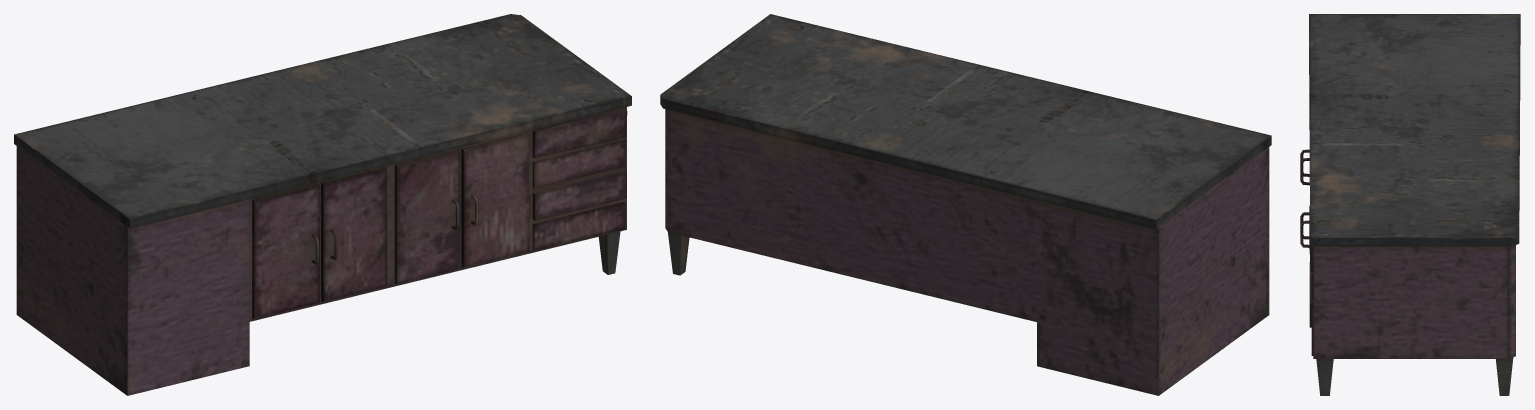
File: AdminDesk.FBX
3 views of the same model, side by side, from view 1: azimuth 30°, elevation 25°; view 2: azimuth 150°, elevation 25°; view 3: azimuth 270°, elevation 25° (orthographic). The views are drawn at different scales.
Parts seen in each view (by area): view 1: AdminDesk; view 2: AdminDesk; view 3: AdminDesk.
Boxes of the visible parts, x1=… form: AdminDesk: x1=14, y1=14, x2=631, y2=395; AdminDesk: x1=660, y1=14, x2=1271, y2=395; AdminDesk: x1=1300, y1=14, x2=1520, y2=395.
Bounding box in the file's own units: 229 × 77.63 × 95.09.
Materials: 1 (1 with a texture image).
